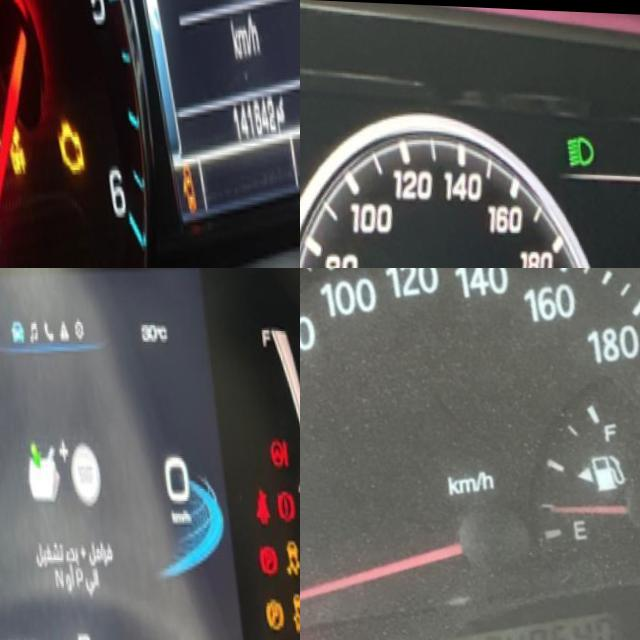Doors: (164, 150, 195, 228)
Low beam: (559, 125, 596, 171)
